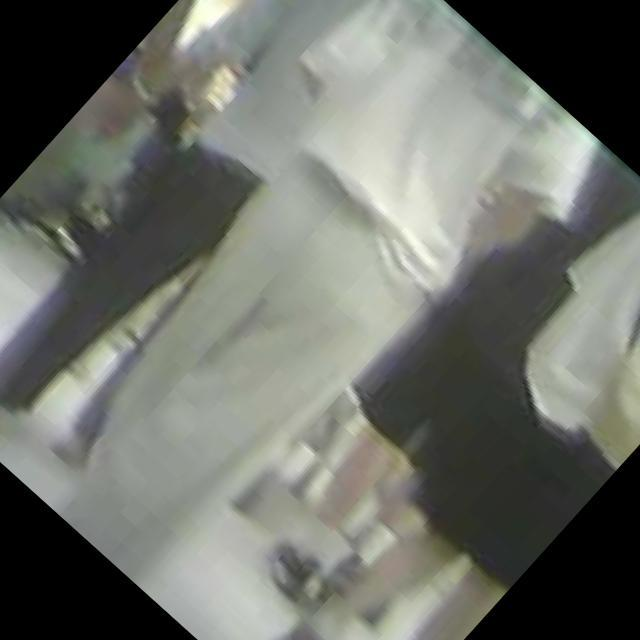person: (0, 0, 602, 619), (0, 0, 469, 497), (211, 120, 640, 637), (239, 190, 640, 640)
